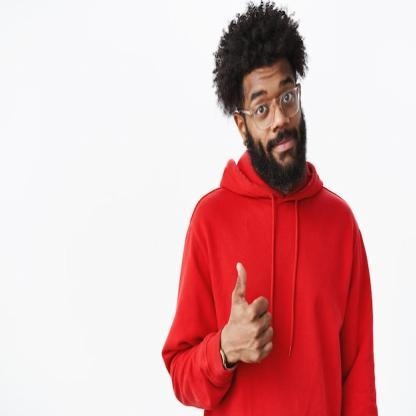thumb_up: (221, 260, 275, 367)
